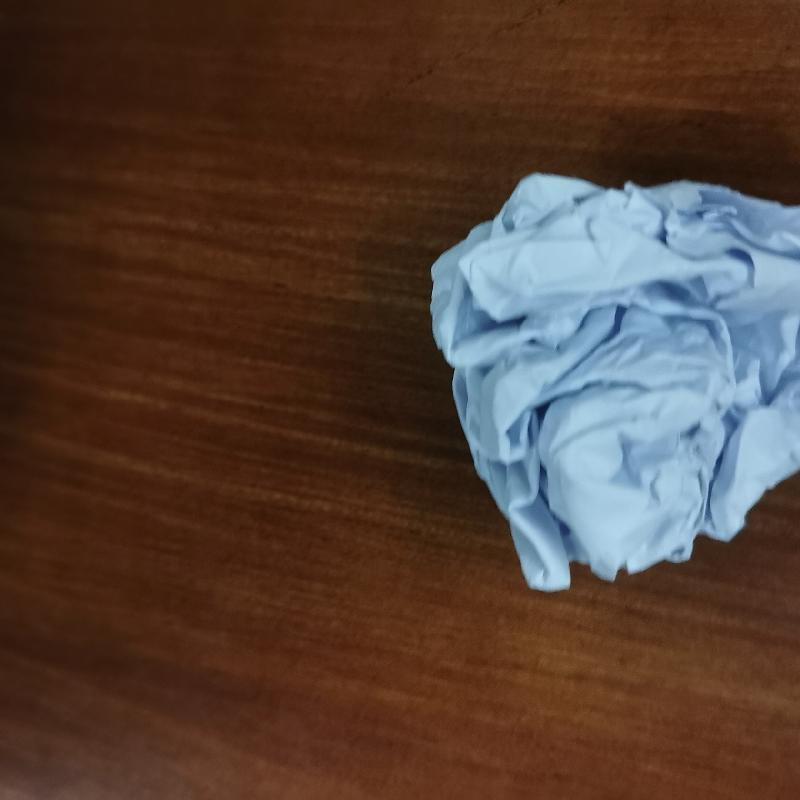spitball: (423, 164, 800, 599)
